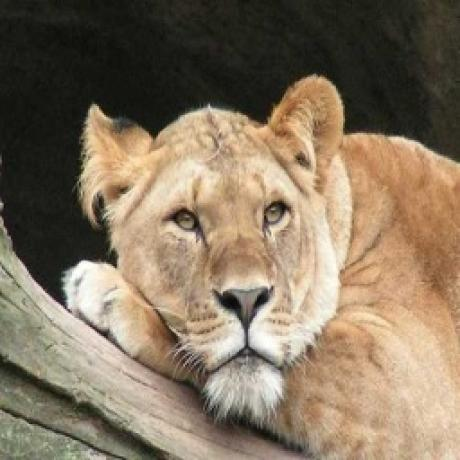Lion: (61, 66, 458, 460)
